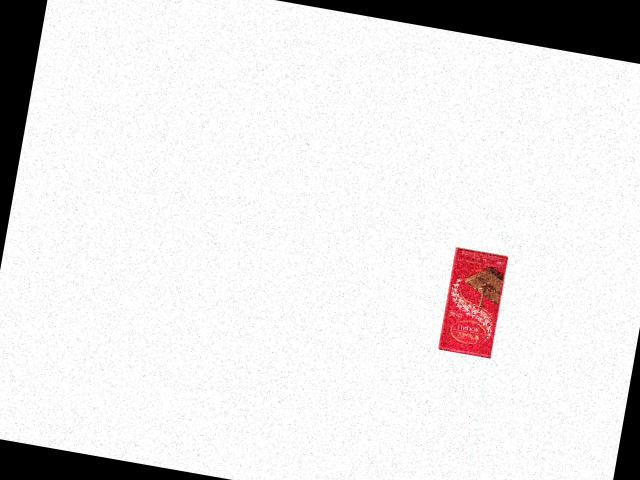chocolate: (436, 247, 513, 359)
